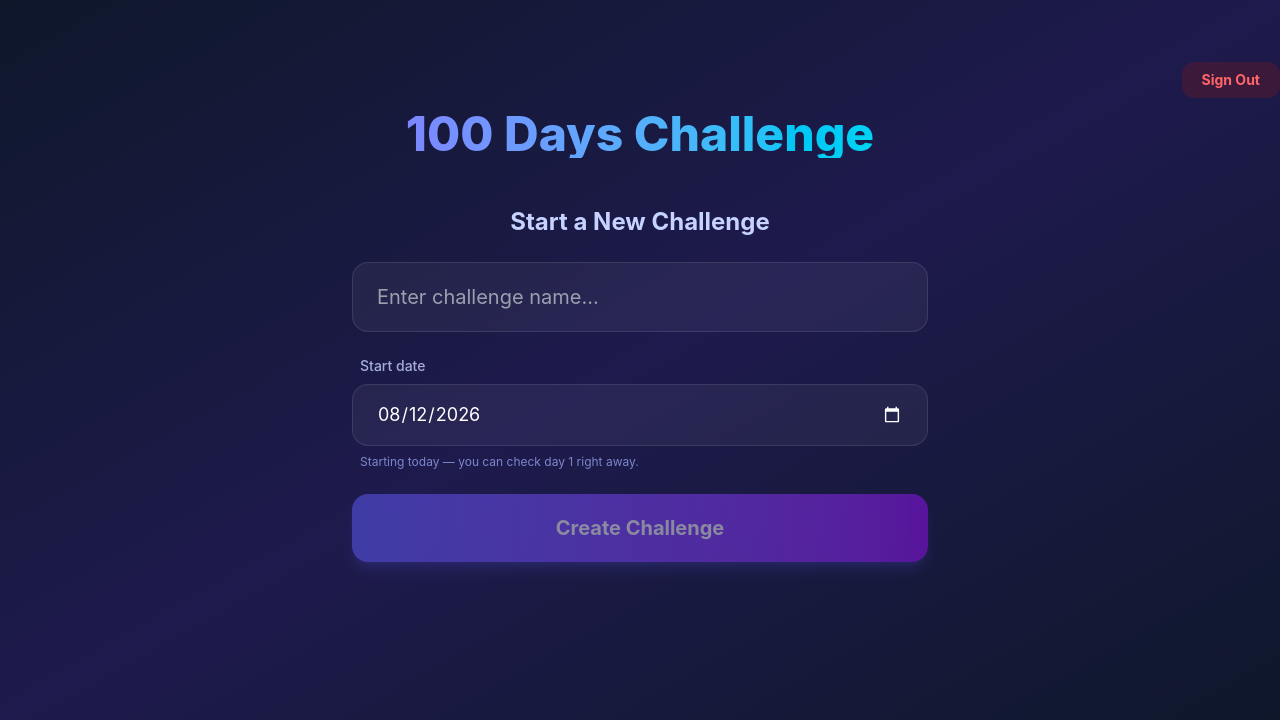
Test: Creating a challenge › shows the server message when creation is rejected
Type "Whatever" into the field with placeholder "Enter challenge name...". click: [640, 297]
box: [352,262,928,332]
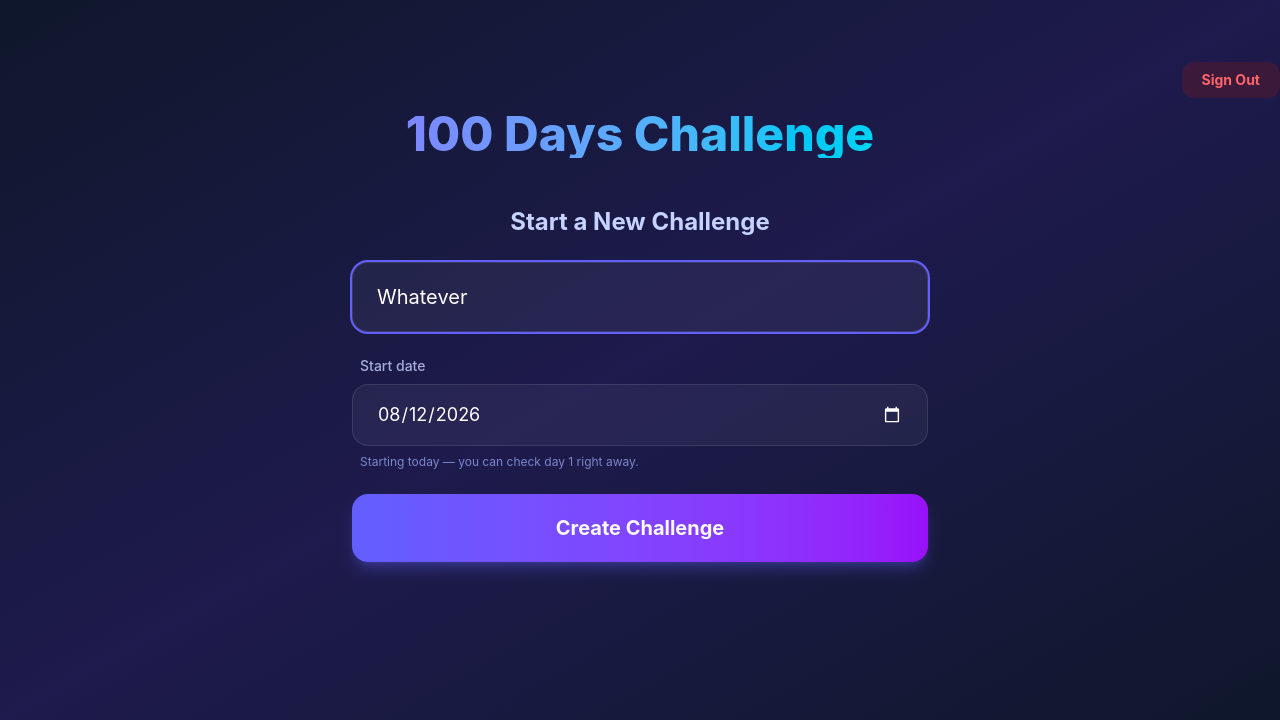
Click the button "Create Challenge". click: [640, 528]
box: [352,494,928,562]
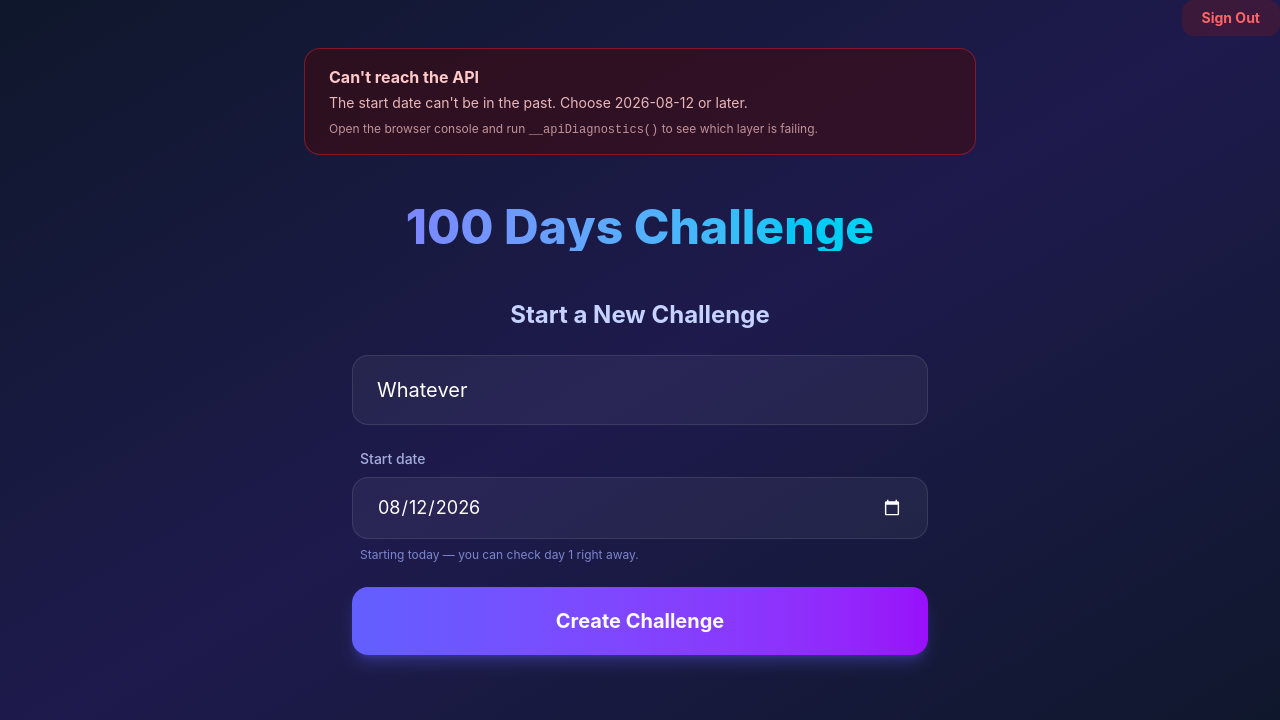
Now the text "start date can't be in the past" is shown, box [329,94,748,111]
